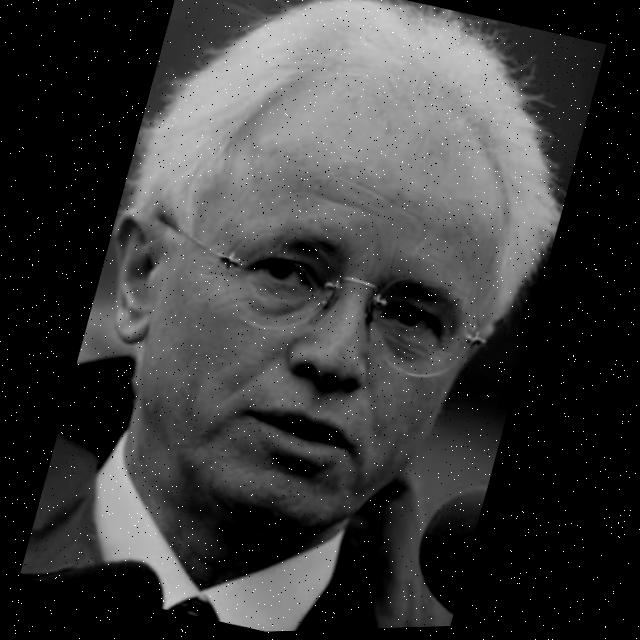face: (60, 0, 585, 583)
